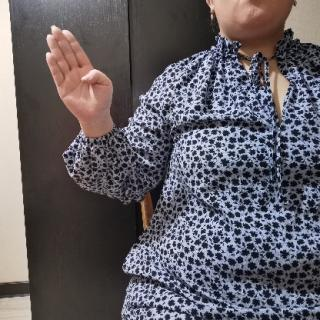KAAF: (39, 18, 120, 132)
